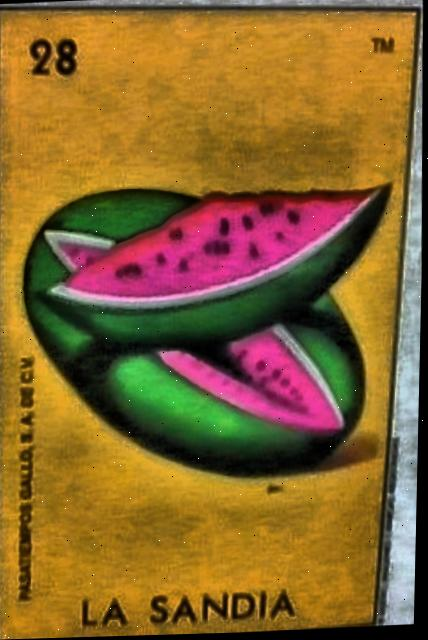La Sandia: (0, 11, 421, 640)
